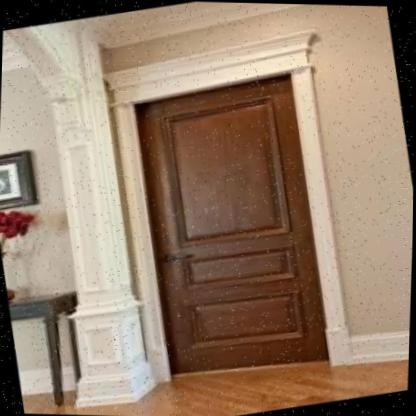Table: (4, 280, 94, 413)
